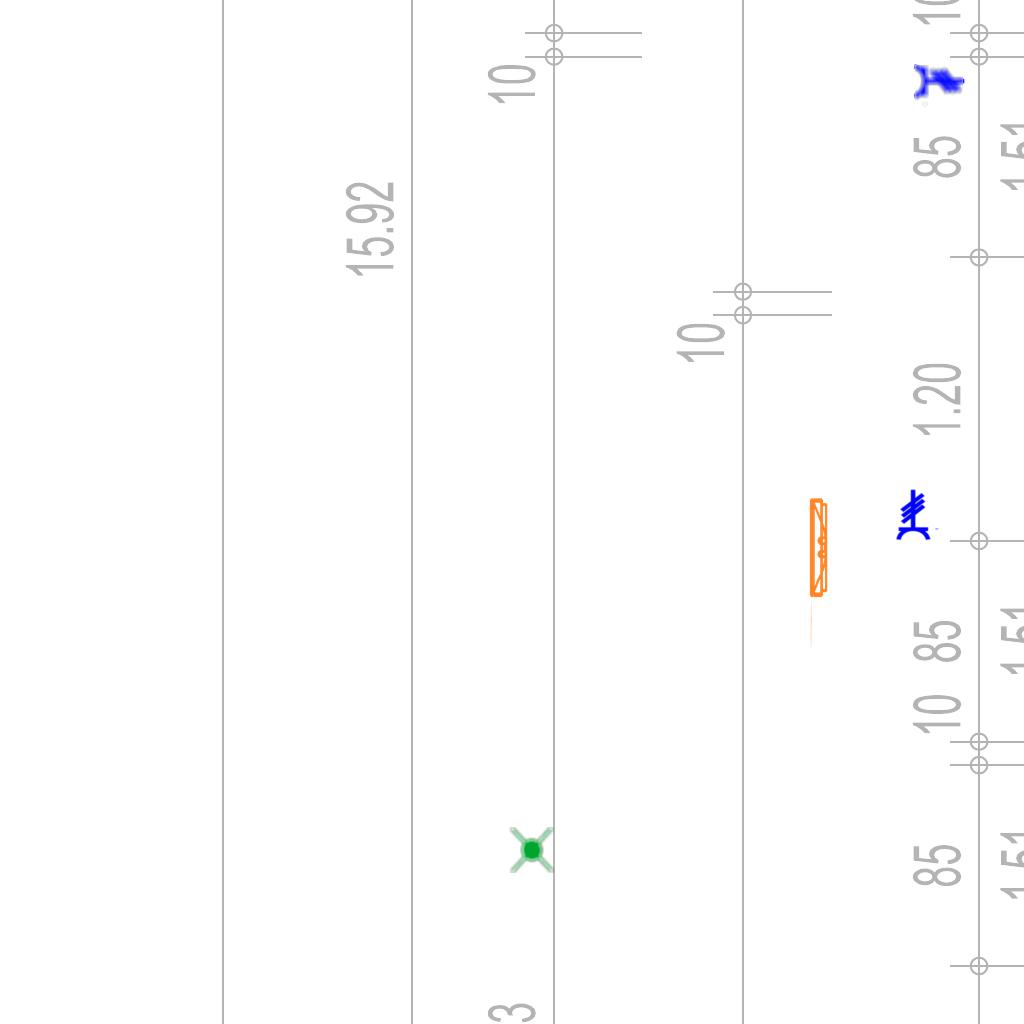CEE_Drehstrom_Steckdose_16_32_A: (895, 489, 940, 541), (913, 63, 965, 108)
Notlichtbaustein_in_Allgemeinbeleuchtug_engebaut_Einbau_(1UG_und_2UG_Aufbauvaria: (507, 825, 558, 875)
Sicherheitsleuchte_Wandeinbau: (807, 493, 832, 652)
